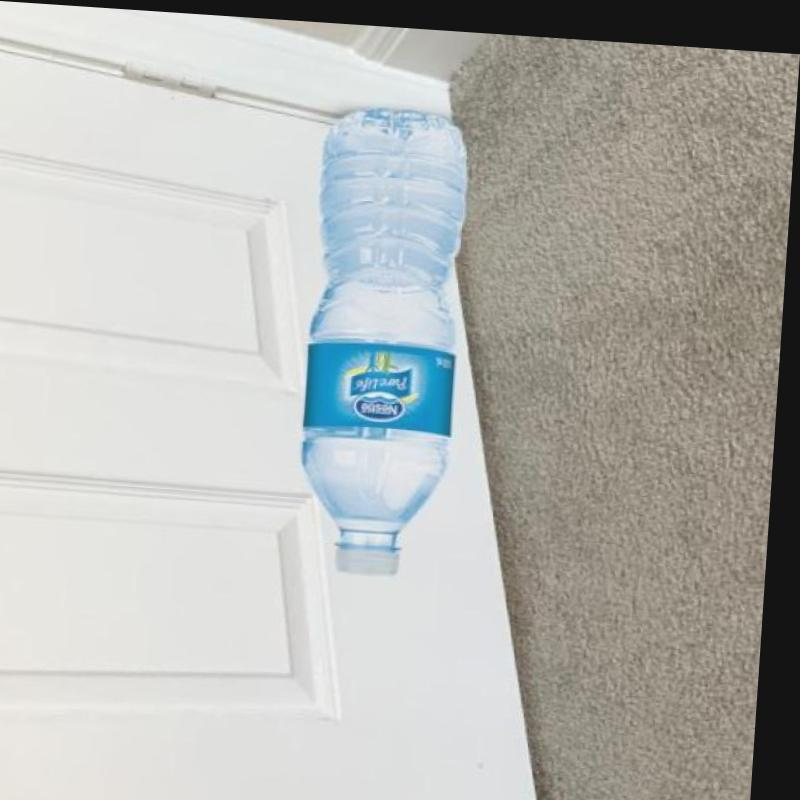botella: (303, 101, 472, 571)
